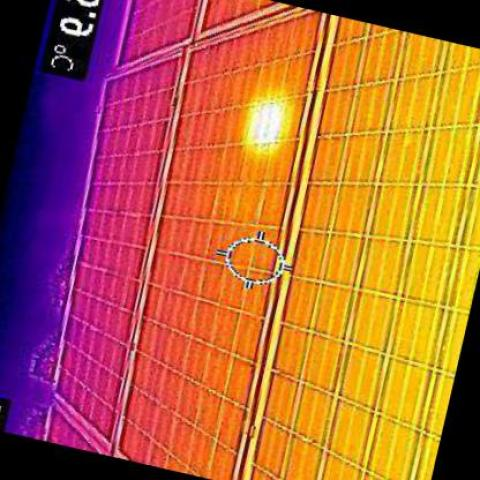fault: (250, 100, 281, 142)
